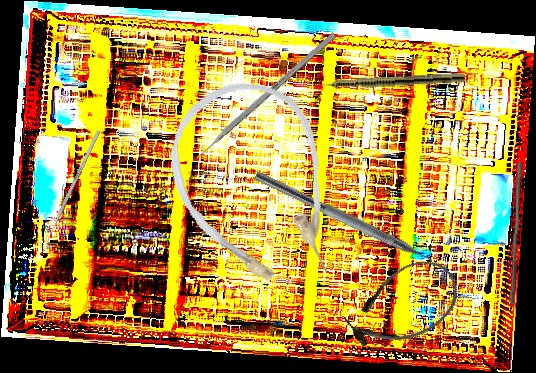Cannula: (147, 61, 365, 315), (335, 247, 471, 364)
Chopper: (247, 170, 451, 283)
Handpiece: (305, 70, 465, 92)
Pusher: (182, 31, 337, 172), (43, 130, 101, 246), (510, 161, 523, 307)
